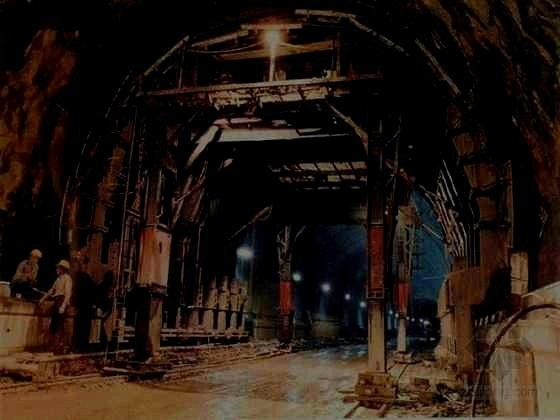helmet: (55, 260, 71, 276), (30, 249, 42, 263)
